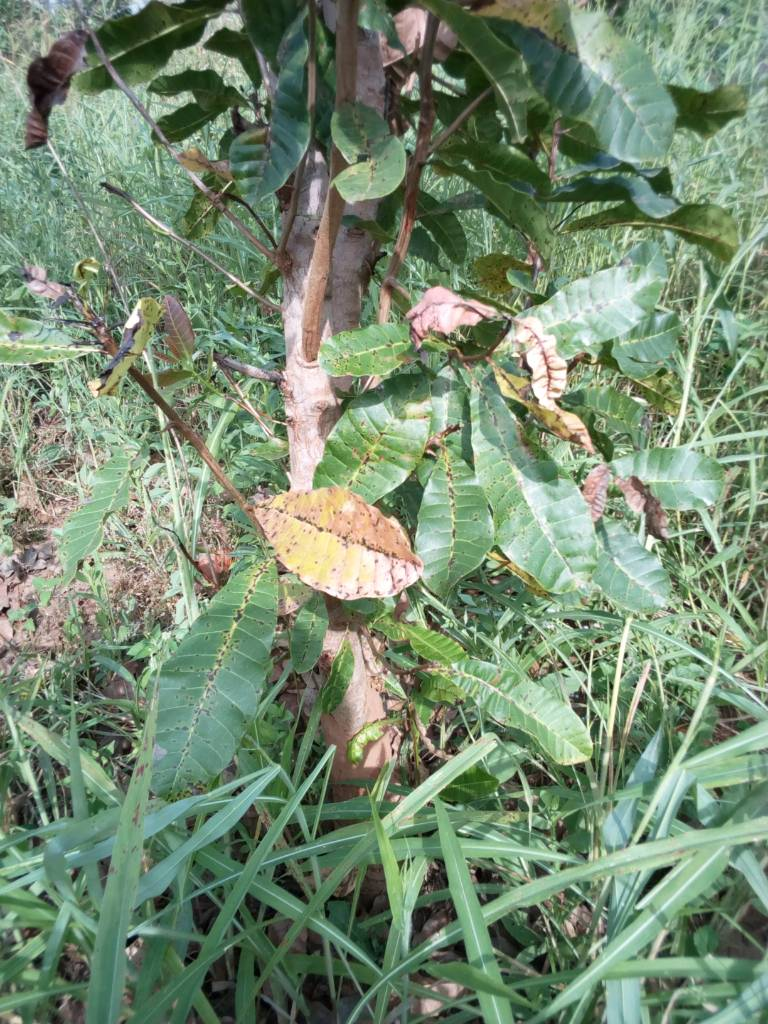Anthracnose: (255, 486, 422, 600)
